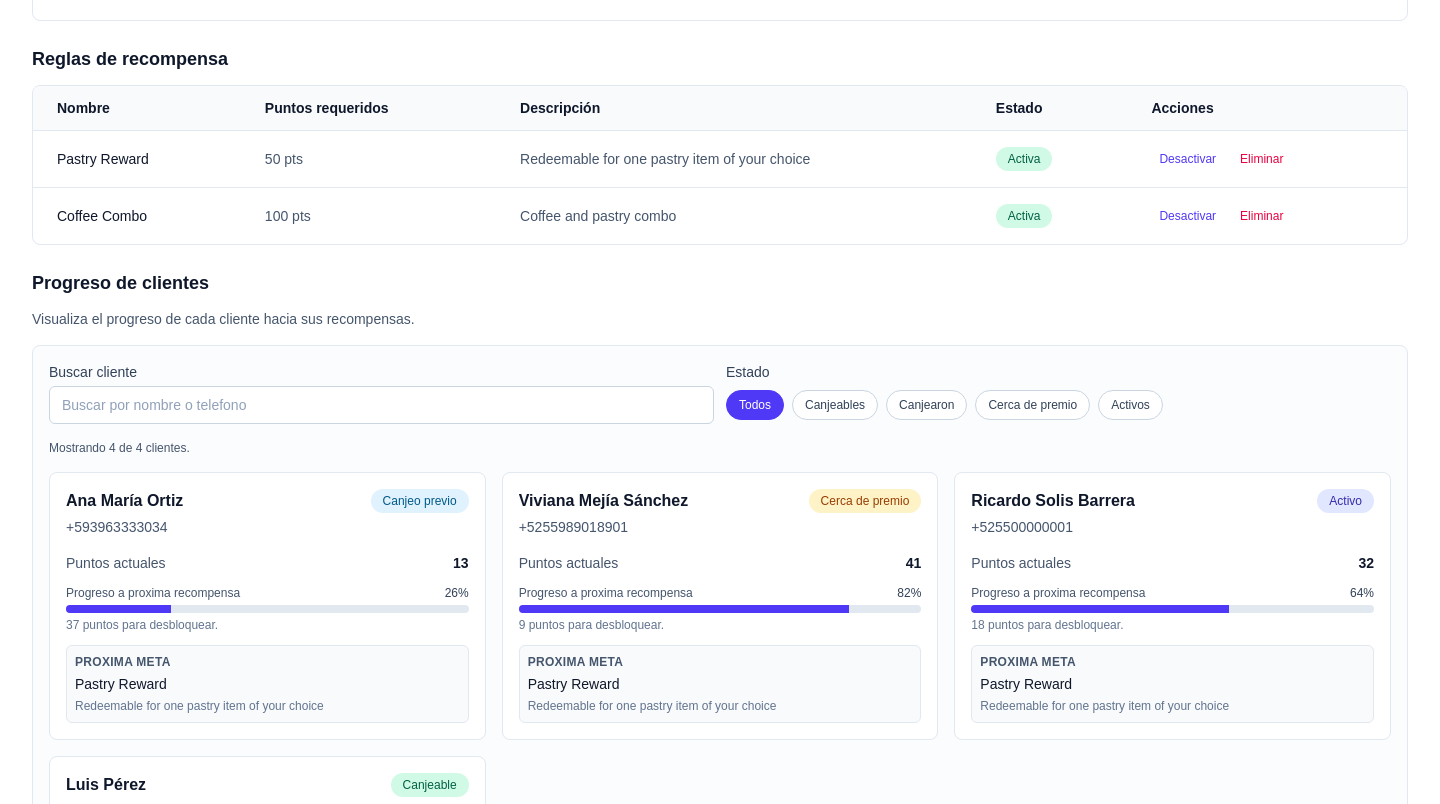
it: DashboardRewardsPage (/dashboard/rewards) › filters by status chips
This screenshot has width=1440, height=804.
(page scrolled)
Click the button "Canjeables" at (835, 405), box [792,390,878,420]
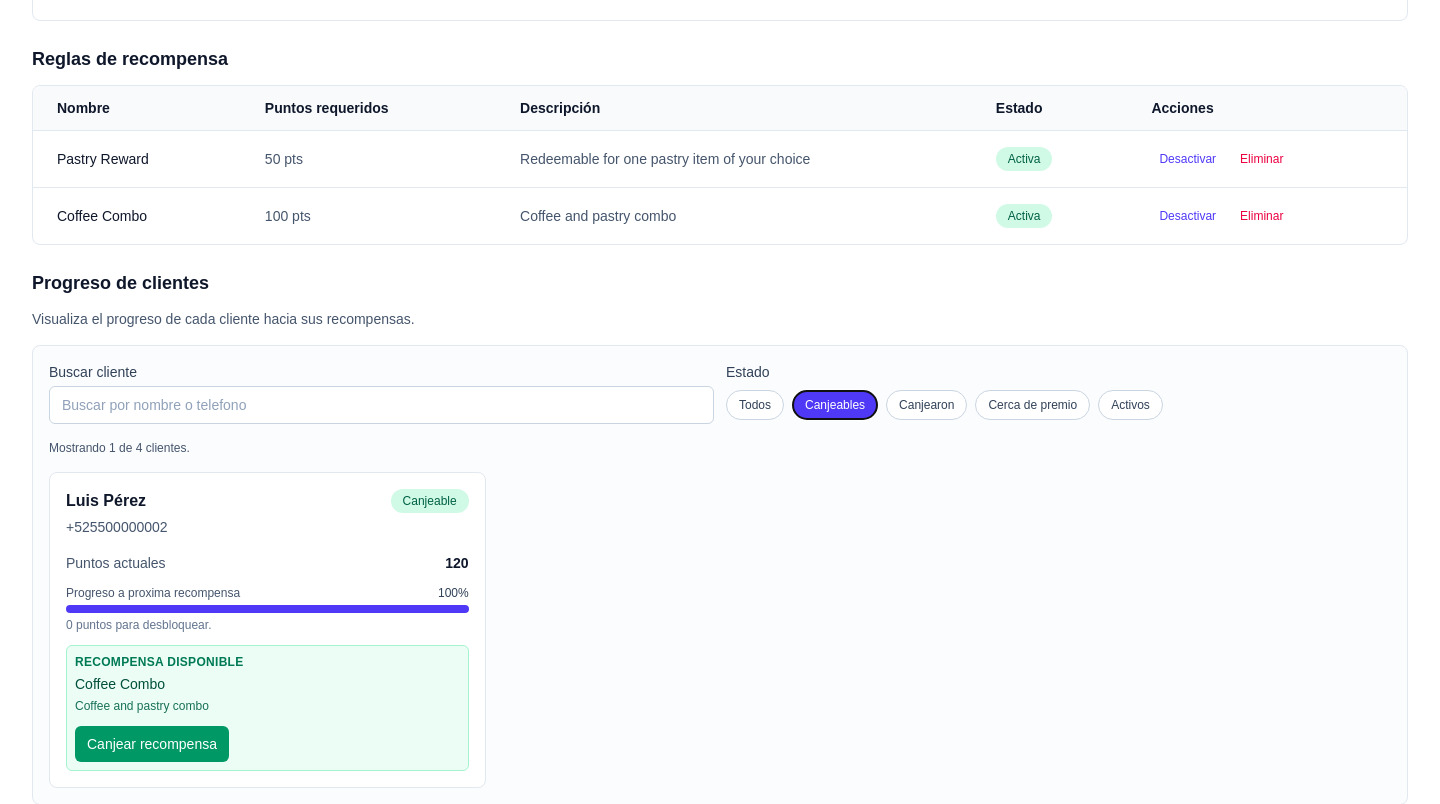
Expected: the heading "Ana María Ortiz" is gone
Expected: the heading "Viviana Mejía Sánchez" is gone
Expected: the text "Mostrando 1 de 4 clientes." is shown, [49,441,190,455]
